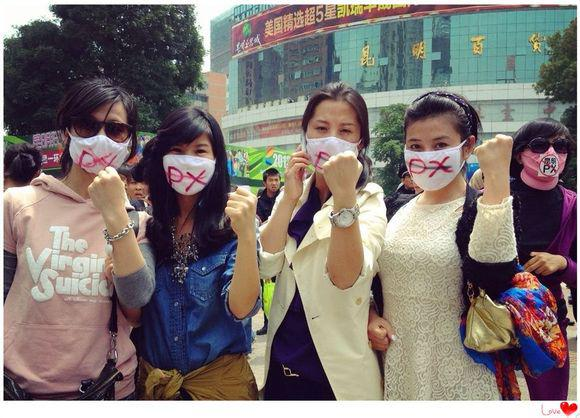NONE: (129, 178, 149, 200), (267, 177, 281, 192)
OK: (406, 131, 466, 192), (70, 111, 130, 171), (304, 118, 362, 177), (164, 139, 218, 192), (524, 137, 568, 180)
